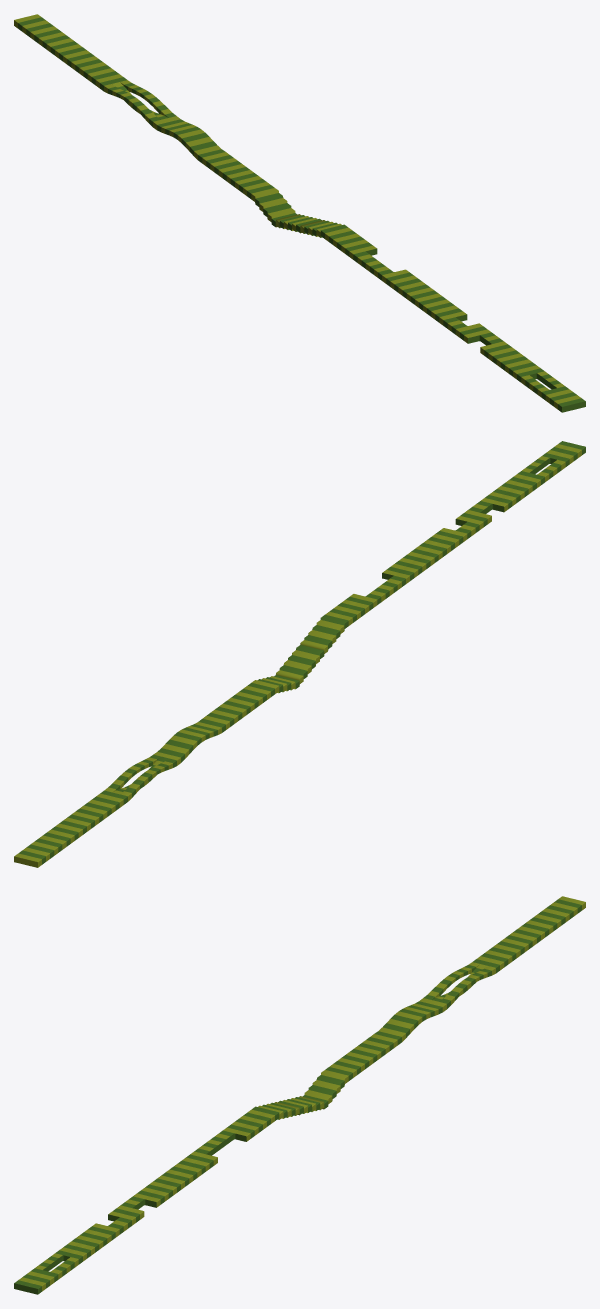
Rendered from ModelHairways_new.FBX.
The picture shows the model from 3 angles, top to bottom: view 1: azimuth 30°, elevation 25°; view 2: azimuth 150°, elevation 25°; view 3: azimuth 330°, elevation 25°; orthographic projection.
Visible parts, largest first — view 1: Box015, Box012, Box013, Box014, Box023, Box017, Box022, Box021, Box016, Box025; view 2: Box015, Box012, Box013, Box014, Box025, Box024, Box016, Box021, Box022, Box017; view 3: Box015, Box012, Box013, Box014, Box023, Box017, Box022, Box021, Box016, Box025.
Boxes of the visible parts, <box> form: Box015: <box>14,14,126,91</box>; Box012: <box>415,293,527,370</box>; Box013: <box>325,227,437,304</box>; Box014: <box>505,359,585,412</box>; Box023: <box>251,188,296,226</box>; Box017: <box>177,129,225,163</box>; Box022: <box>226,170,274,198</box>; Box021: <box>202,152,249,180</box>; Box016: <box>153,116,200,139</box>; Box025: <box>300,220,347,238</box>; Box015: <box>14,790,127,867</box>; Box012: <box>415,483,528,559</box>; Box013: <box>325,549,438,625</box>; Box014: <box>505,441,585,493</box>; Box025: <box>300,614,348,653</box>; Box024: <box>276,645,324,684</box>; Box016: <box>153,732,201,765</box>; Box021: <box>203,700,250,729</box>; Box022: <box>227,682,274,711</box>; Box017: <box>178,718,225,741</box>; Box015: <box>473,896,585,973</box>; Box012: <box>72,1175,184,1252</box>; Box013: <box>162,1109,274,1186</box>; Box014: <box>14,1241,94,1294</box>; Box023: <box>303,1070,348,1108</box>; Box017: <box>374,1011,422,1045</box>; Box022: <box>325,1052,373,1080</box>; Box021: <box>350,1034,397,1062</box>; Box016: <box>399,998,446,1021</box>; Box025: <box>252,1102,299,1120</box>.
Size of the model in its own units: 370 by 446 by 14702.
